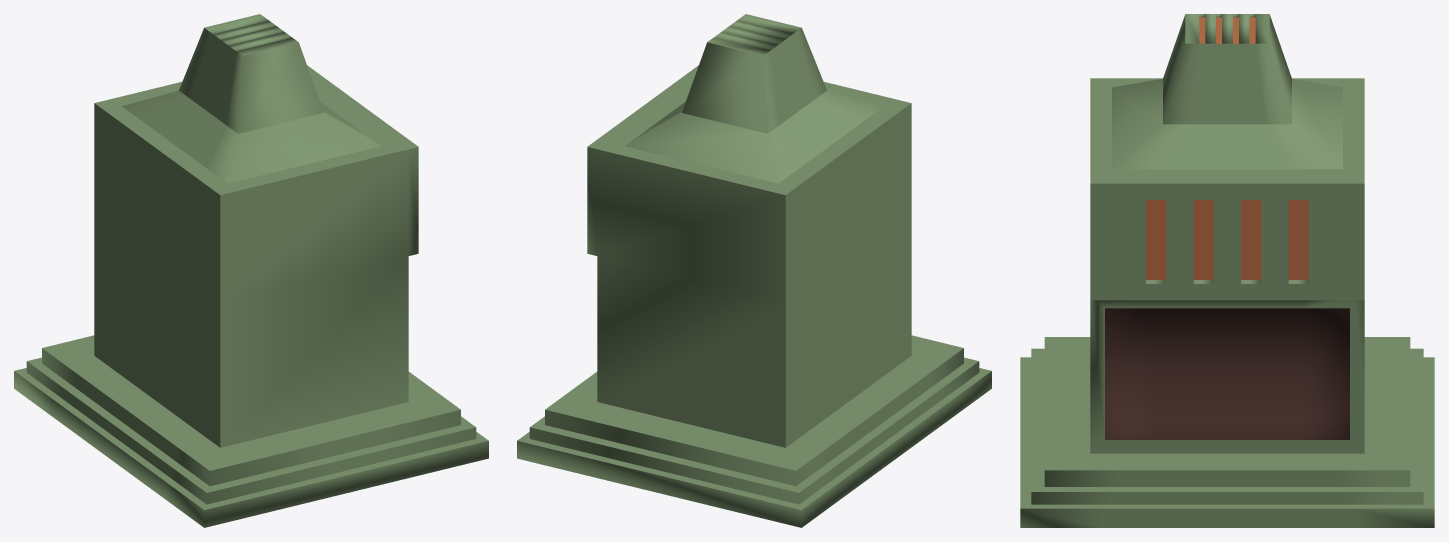
Rendered from ocak.fbx.
3 views of the same model, side by side, from view 1: azimuth 30°, elevation 25°; view 2: azimuth 150°, elevation 25°; view 3: azimuth 270°, elevation 25° (orthographic). The views are drawn at different scales.
Visible parts, largest first — view 1: fırın; view 2: fırın; view 3: fırın.
Part boxes in pixels (x1=…): fırın: x1=14, y1=14, x2=488, y2=527; fırın: x1=517, y1=14, x2=991, y2=527; fırın: x1=1020, y1=14, x2=1434, y2=527.
Bounding box in the file's own units: 1199 × 1565 × 1388.
